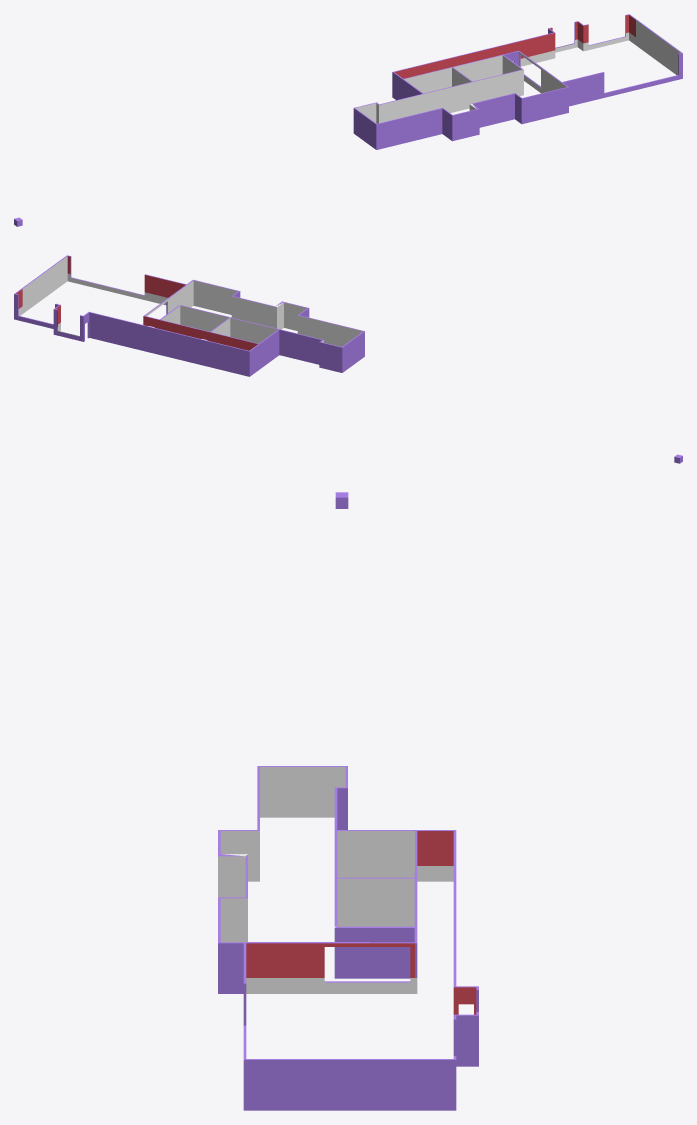
Rendered from Porkies Resturant Building Fixed.fbx.
3 renders of one model, top to bottom at view 1: azimuth 30°, elevation 25°; view 2: azimuth 150°, elevation 25°; view 3: azimuth 270°, elevation 25°, orthographic. The views are drawn at different scales.
Visible parts, largest first — view 1: Building v2; view 2: Building v2; view 3: Building v2.
Part boxes in pixels (bbox=[...]): Building v2: bbox=[14, 14, 682, 226]; Building v2: bbox=[14, 255, 682, 463]; Building v2: bbox=[218, 492, 478, 1110].
Bounding box in the file's own units: 71.37 × 3.84 × 12.62.
